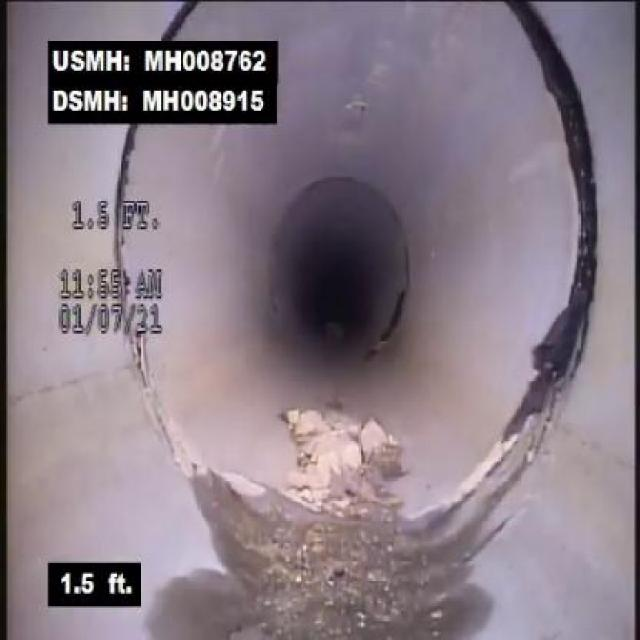Debris: (258, 377, 442, 523)
